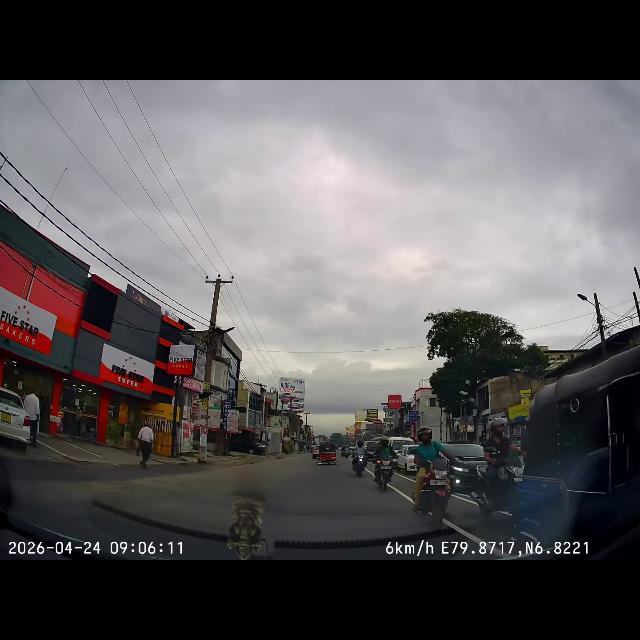double_solid_line: (396, 472, 418, 512)
helmet: (487, 417, 508, 439), (419, 427, 433, 443), (358, 438, 366, 446), (382, 438, 388, 448)
motorcycle: (420, 465, 452, 519), (481, 468, 521, 506), (376, 456, 394, 486), (354, 454, 366, 472)
person: (416, 428, 444, 487), (488, 421, 512, 474), (377, 440, 391, 470), (356, 441, 364, 464)
three_wheeler: (548, 387, 628, 531), (320, 445, 338, 465)
